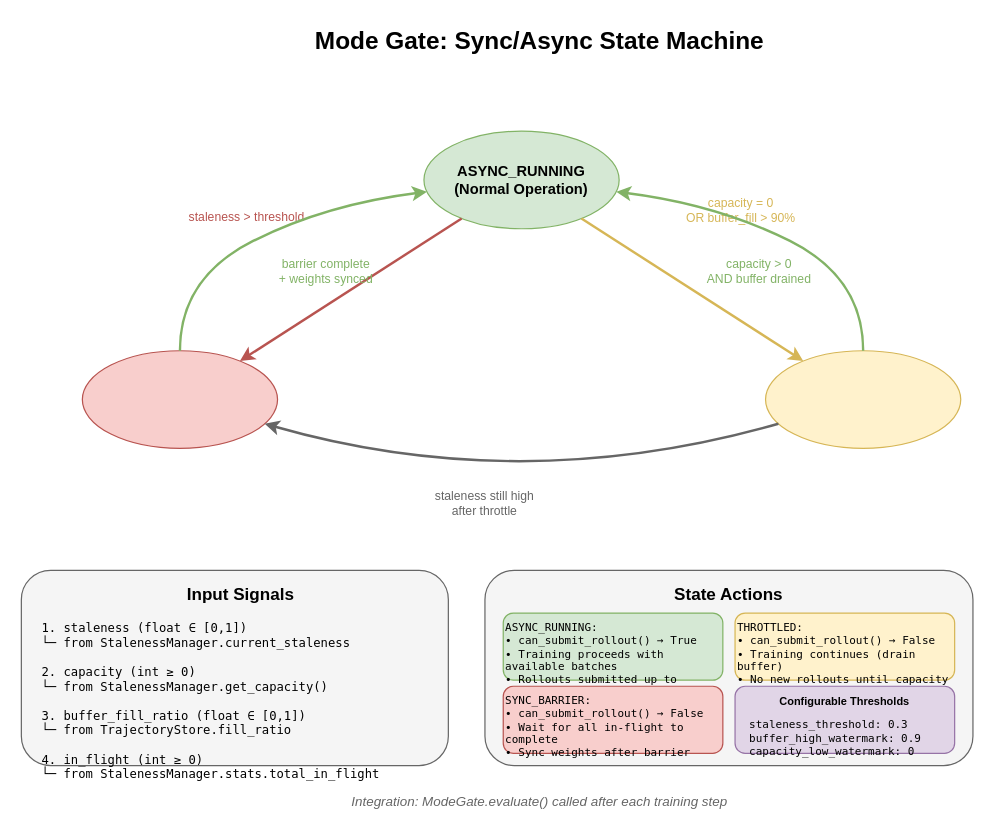
The diagram is 994 pixels wide and 834 high, and some of its shapes have lost their labels. Here are the shapes that lost their labels. From the top down, the box of each, then its label:
(81, 350, 278, 448): SYNC_BARRIER (Wait for In-flight)
(764, 350, 961, 448): THROTTLED (Backpressure)
